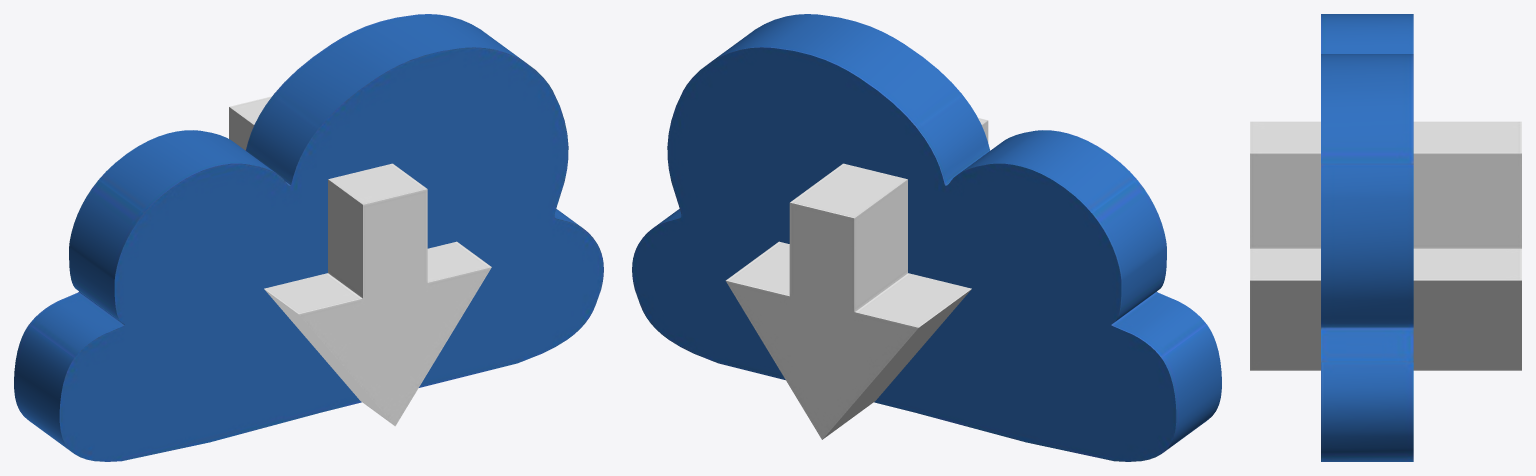
Rendered from model_SaveToCloud.glb.
3 views of the same model, side by side, from view 1: azimuth 30°, elevation 25°; view 2: azimuth 150°, elevation 25°; view 3: azimuth 270°, elevation 25° (orthographic).
Visible parts, largest first — view 1: save_to_cloud__2; view 2: save_to_cloud__2; view 3: save_to_cloud__2.
Boxes of the visible parts, bbox=[...] form: save_to_cloud__2: bbox=[14, 14, 603, 461]; save_to_cloud__2: bbox=[632, 14, 1221, 461]; save_to_cloud__2: bbox=[1250, 14, 1521, 461].
Size of the model in its own units: 0.4828 by 0.2838 by 0.2058.
Materials: 1 (1 with a texture image).
